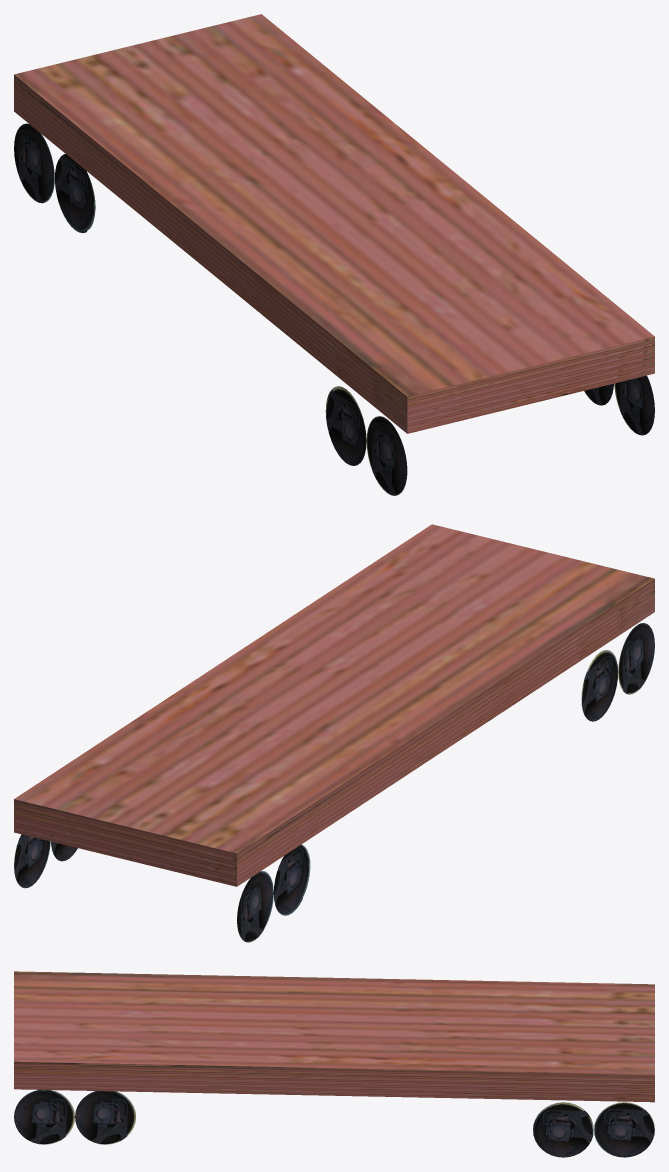
Rendered from cart1.fbx.
3 renders of one model, top to bottom at view 1: azimuth 30°, elevation 25°; view 2: azimuth 150°, elevation 25°; view 3: azimuth 270°, elevation 25°, orthographic. The views are drawn at different scales.
Visible parts, largest first — view 1: Cube.003, Circle.020, Circle.021, Circle.023, Circle.022, Circle.018; view 2: Cube.003, Circle.020, Circle.021, Circle.023, Circle.022, Circle.016; view 3: Cube.003, Circle.016, Circle.017, Circle.018, Circle.019.
Part boxes in pixels (x1,y1,x2,y2): Cube.003: (14, 14, 654, 433); Circle.020: (325, 386, 366, 465); Circle.021: (366, 416, 407, 495); Circle.023: (14, 123, 54, 203); Circle.022: (55, 154, 95, 232); Circle.018: (614, 375, 654, 435); Cube.003: (14, 524, 654, 886); Circle.020: (581, 650, 618, 721); Circle.021: (618, 623, 654, 694); Circle.023: (237, 871, 273, 942); Circle.022: (273, 844, 310, 915); Circle.016: (14, 834, 50, 888); Cube.003: (14, 971, 654, 1102); Circle.016: (594, 1102, 654, 1157); Circle.017: (533, 1102, 593, 1157); Circle.018: (14, 1090, 74, 1144); Circle.019: (75, 1091, 135, 1144).
Size of the model in its own units: 800 by 300 by 2100.
Materials: 2 (2 with a texture image).
